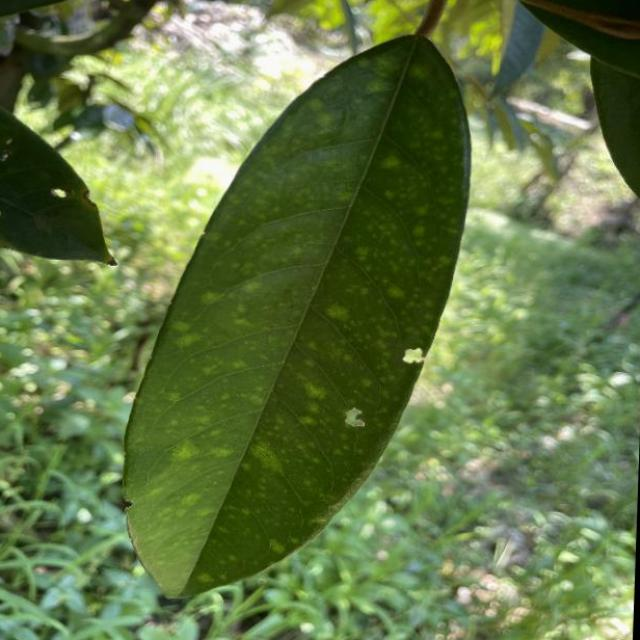Leaf Spot: (112, 15, 484, 628)
